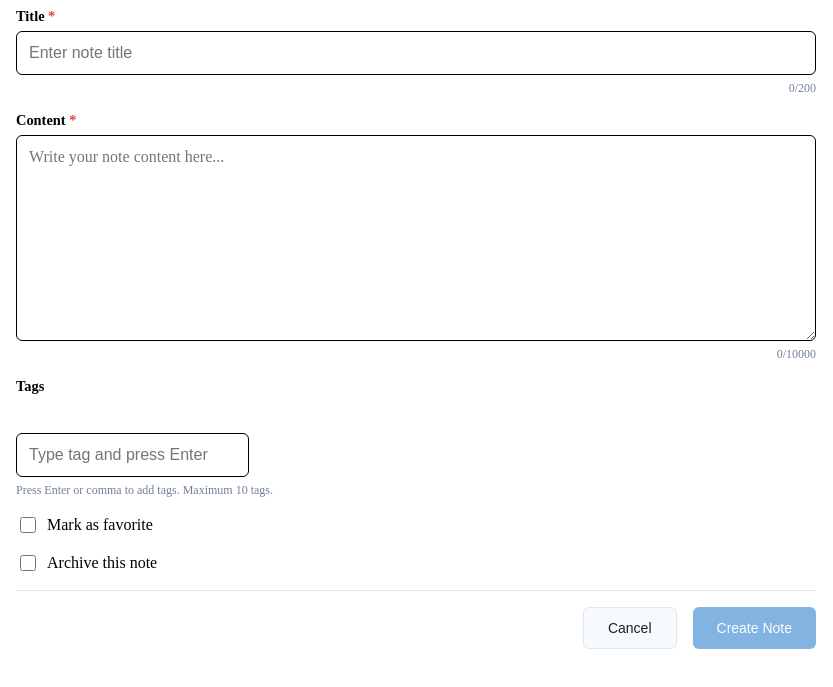
NotesForm › Form Validation › should validate minimum content length
In the text box labelled "Content": (416, 238) top-left (16, 135), bottom-right (816, 341), type "Short"
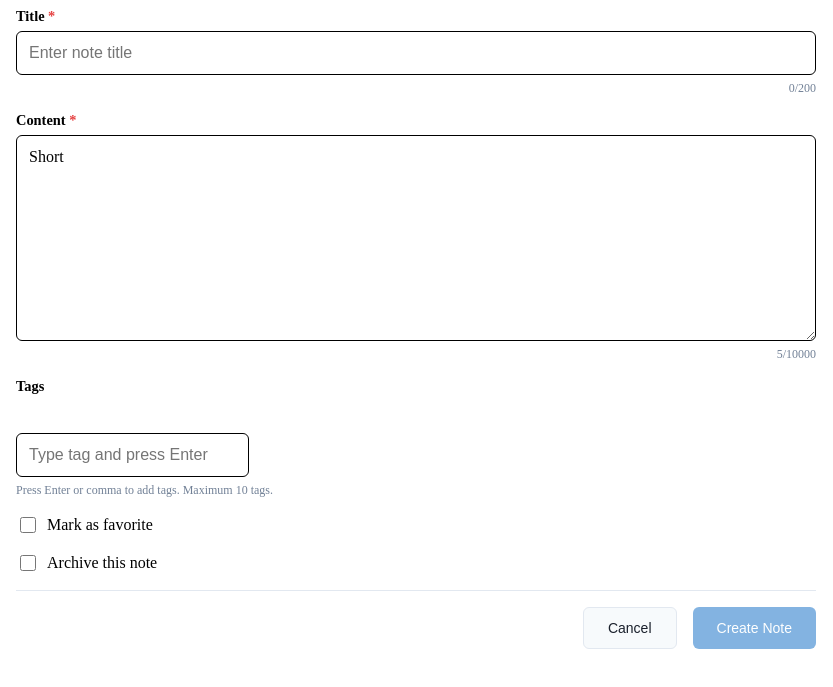
Leave the text box labelled "Content", box top-left (16, 135), bottom-right (816, 341)
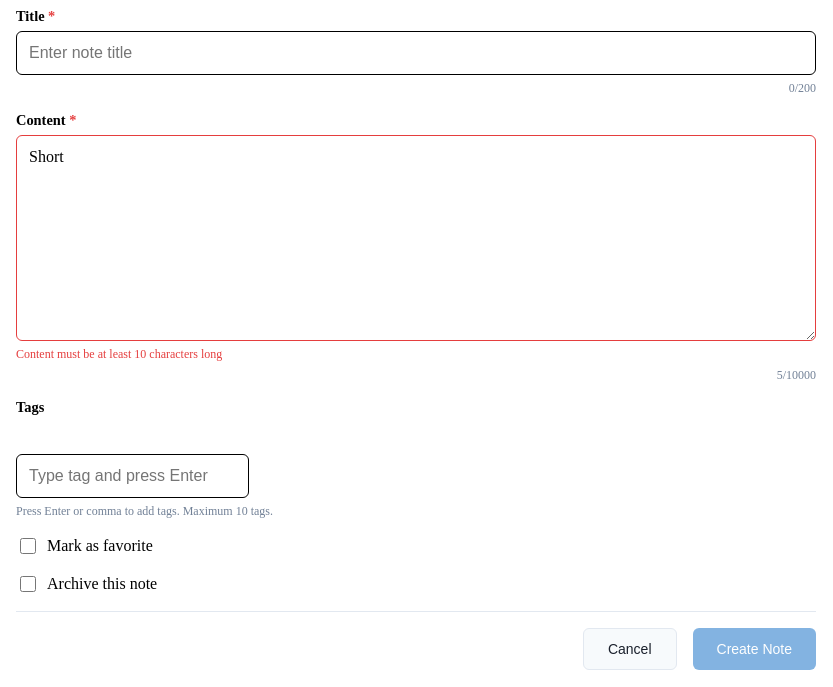
Check: the text "Content must be at least 10 characters long" is shown, box top-left (16, 347), bottom-right (222, 361)
